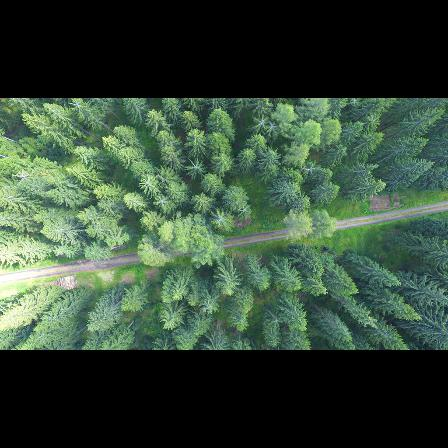Sick: (184, 158, 207, 179), (210, 207, 229, 232), (265, 310, 289, 329), (298, 161, 321, 179), (151, 195, 171, 209), (254, 113, 267, 133), (264, 120, 279, 136), (200, 301, 217, 314), (238, 203, 251, 218)
